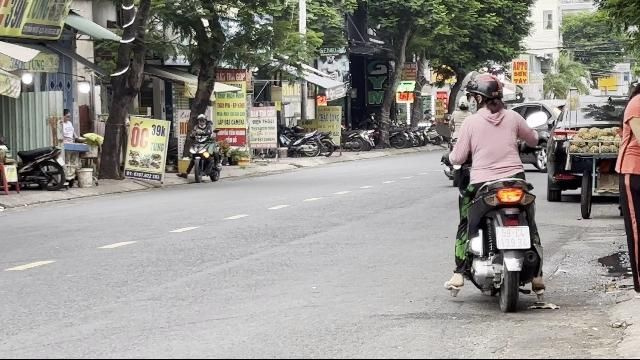helmet: (468, 73, 506, 111)
licenseplate: (496, 227, 528, 249)
motorcyclist: (442, 69, 550, 309)
